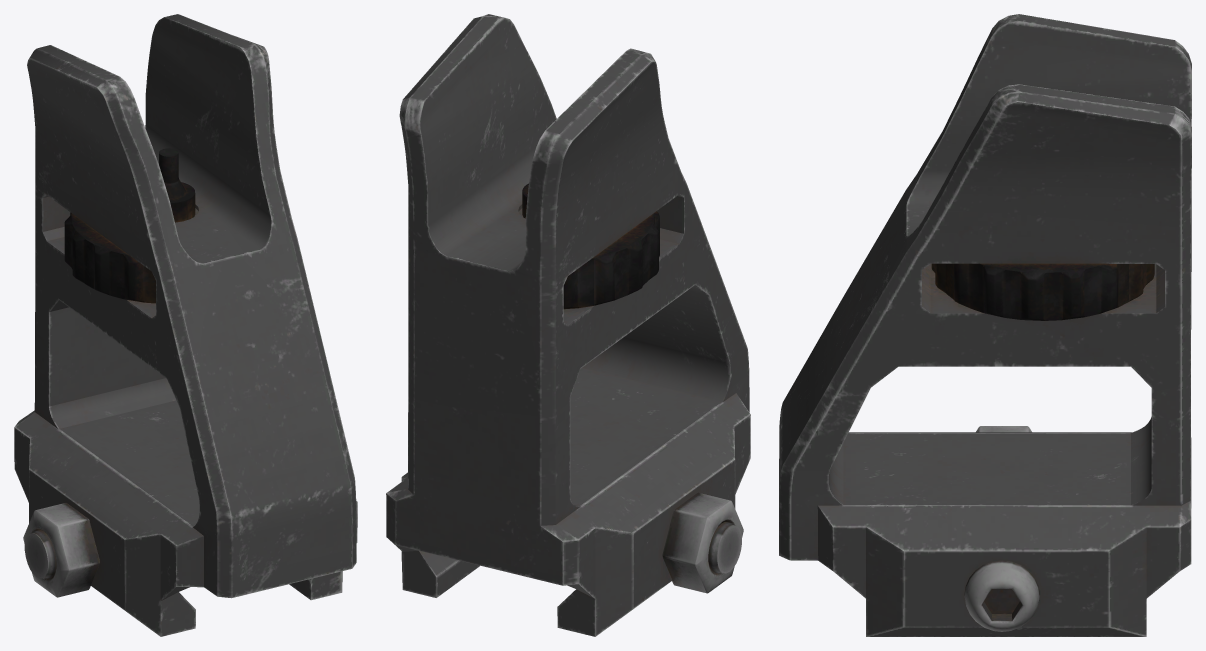
Rendered from IronSights_3_F.glb.
3 renders of one model, left to right at view 1: azimuth 30°, elevation 25°; view 2: azimuth 150°, elevation 25°; view 3: azimuth 270°, elevation 25°, orthographic. The views are drawn at different scales.
Visible parts, largest first — view 1: IronSights_3_F; view 2: IronSights_3_F; view 3: IronSights_3_F.
Part boxes in pixels (x1,y1,x2,y2): IronSights_3_F: [14, 14, 357, 636]; IronSights_3_F: [386, 14, 750, 636]; IronSights_3_F: [779, 14, 1191, 636].
Bounding box in the file's own units: 0.0406 × 0.069 × 0.0481.
1 material, 1 textured.
